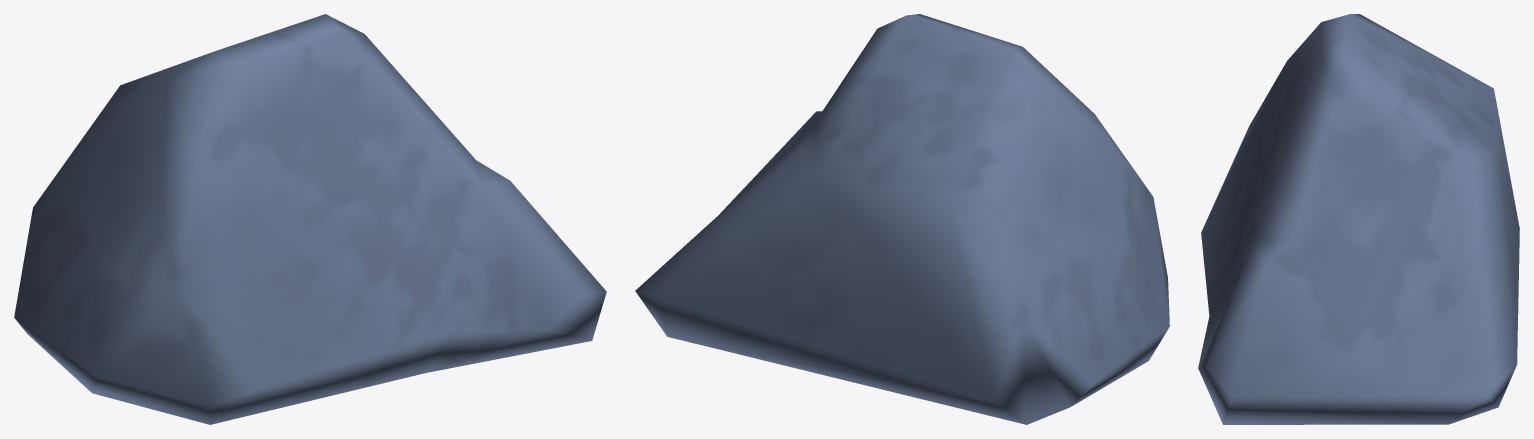
Rendered from SM_Stage_Final_Crack_04.fbx.
The picture shows the model from 3 angles, left to right: view 1: azimuth 30°, elevation 25°; view 2: azimuth 150°, elevation 25°; view 3: azimuth 270°, elevation 25°; orthographic projection. The views are drawn at different scales.
Parts seen in each view (by area): view 1: SM_Stage_Final_Crack_04; view 2: SM_Stage_Final_Crack_04; view 3: SM_Stage_Final_Crack_04.
Part boxes in pixels (box(x1,y1,x2,y2)): SM_Stage_Final_Crack_04: box(14, 14, 606, 424); SM_Stage_Final_Crack_04: box(635, 14, 1169, 424); SM_Stage_Final_Crack_04: box(1198, 14, 1519, 424).
Size of the model in its own units: 21.8 by 14.38 by 14.55.
1 material, 1 textured.
